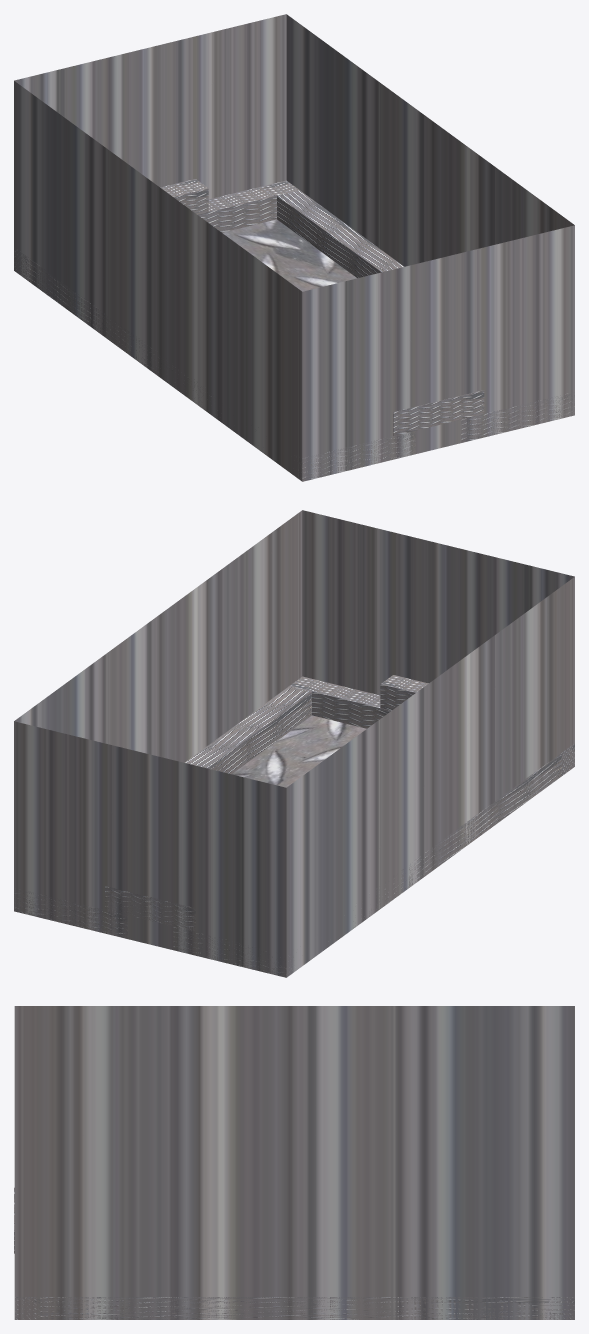
Rendered from arena6.DAE.
3 renders of one model, top to bottom at view 1: azimuth 30°, elevation 25°; view 2: azimuth 150°, elevation 25°; view 3: azimuth 270°, elevation 25°, orthographic. The views are drawn at different scales.
Visible parts, largest first — view 1: Plane001, Box003, Box004, Box007, Box001, Box002, Box006, Box008; view 2: Plane001, Box003, Box006, Box001, Box004, Box008, Box007, Box005; view 3: Plane001, Box003.
Boxes of the visible parts, bbox=[...] form: Plane001: bbox=[14, 14, 574, 481]; Box003: bbox=[277, 190, 404, 278]; Box004: bbox=[198, 180, 298, 232]; Box007: bbox=[393, 390, 484, 435]; Box001: bbox=[461, 392, 574, 442]; Box002: bbox=[294, 431, 415, 481]; Box006: bbox=[27, 257, 232, 415]; Box008: bbox=[160, 179, 208, 214]; Plane001: bbox=[14, 510, 574, 977]; Box003: bbox=[184, 686, 311, 774]; Box006: bbox=[353, 753, 561, 927]; Box001: bbox=[290, 676, 391, 728]; Box004: bbox=[14, 888, 127, 938]; Box008: bbox=[105, 886, 195, 931]; Box007: bbox=[380, 675, 428, 710]; Box005: bbox=[173, 927, 293, 977]; Plane001: bbox=[14, 1006, 574, 1319]; Box003: bbox=[40, 1297, 549, 1319].
Bounding box in the file's own units: 120 × 220 × 80.
Materials: 1 (1 with a texture image).
